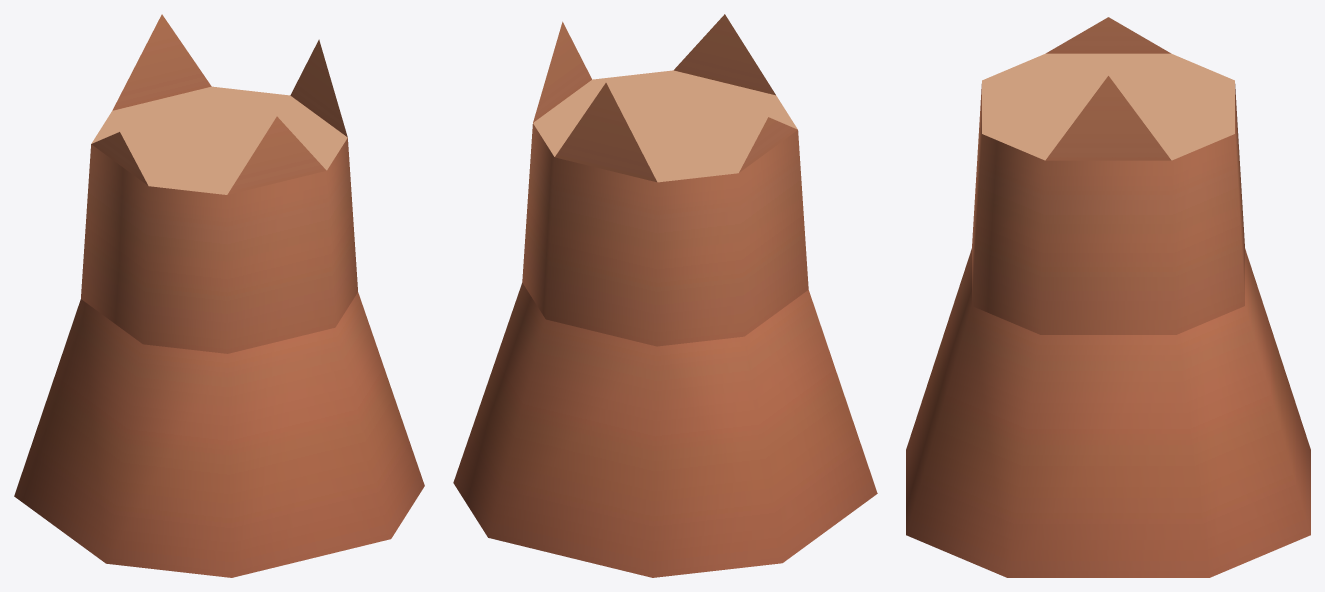
Rendered from tradstam.glb.
3 renders of one model, left to right at view 1: azimuth 30°, elevation 25°; view 2: azimuth 150°, elevation 25°; view 3: azimuth 270°, elevation 25°, orthographic. The views are drawn at different scales.
Visible parts, largest first — view 1: tree-trunk; view 2: tree-trunk; view 3: tree-trunk.
Boxes of the visible parts, x1=… form: tree-trunk: x1=14, y1=14, x2=424, y2=577; tree-trunk: x1=453, y1=14, x2=877, y2=577; tree-trunk: x1=906, y1=17, x2=1310, y2=577.
Size of the model in its own units: 0.2 by 0.2608 by 0.2.
1 material, 1 textured.
